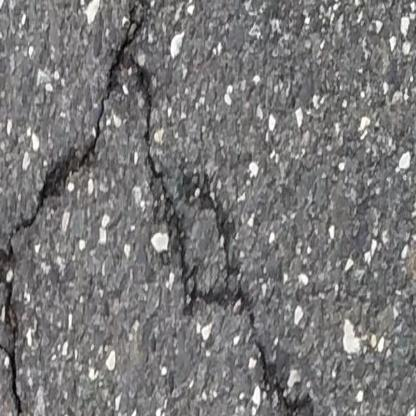Cracks: (119, 0, 340, 416), (0, 81, 114, 416)
